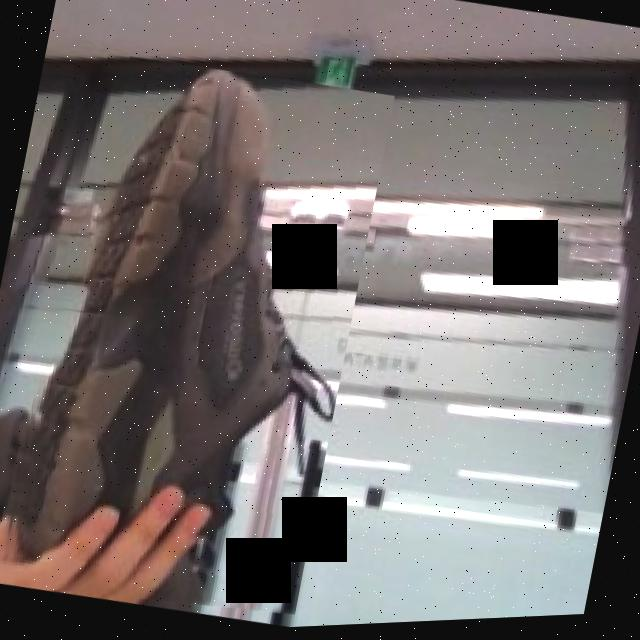shoe: (0, 41, 395, 640)
